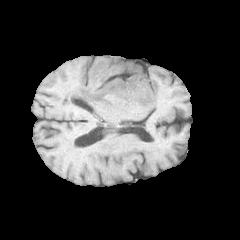glioma: (58, 60, 160, 111)
